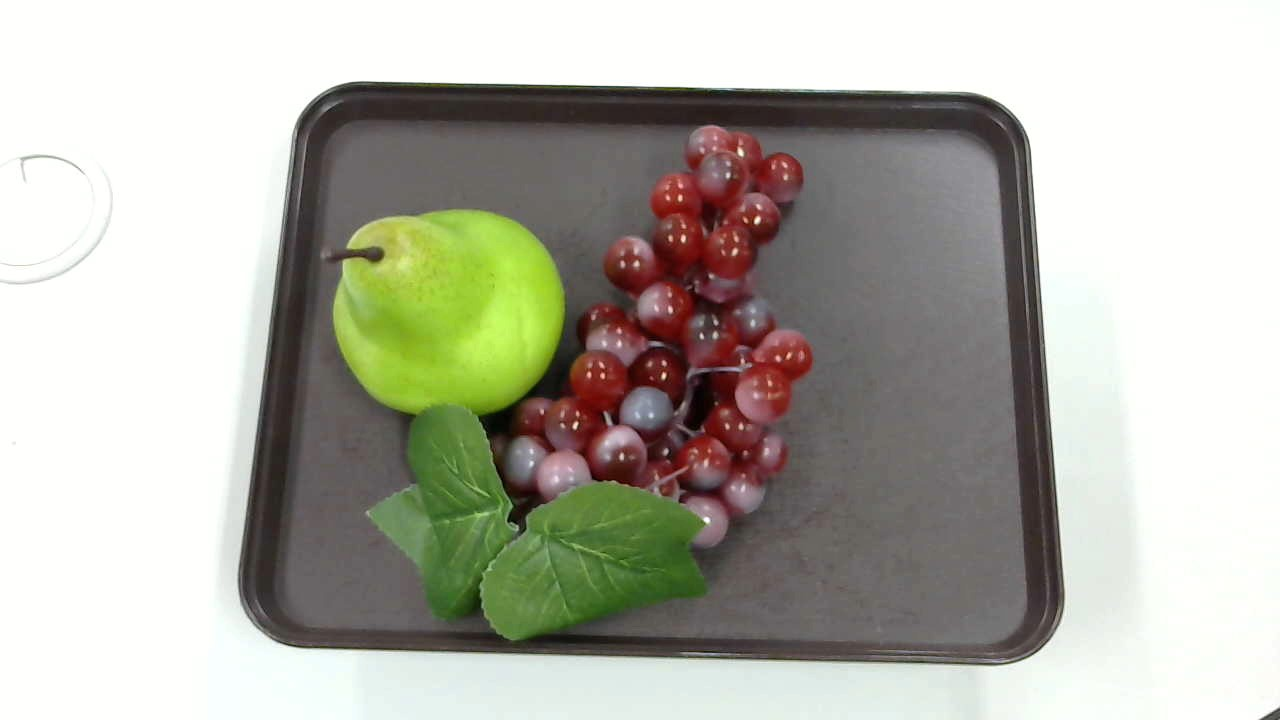grape: (357, 115, 813, 639)
green pear: (322, 202, 564, 425)
